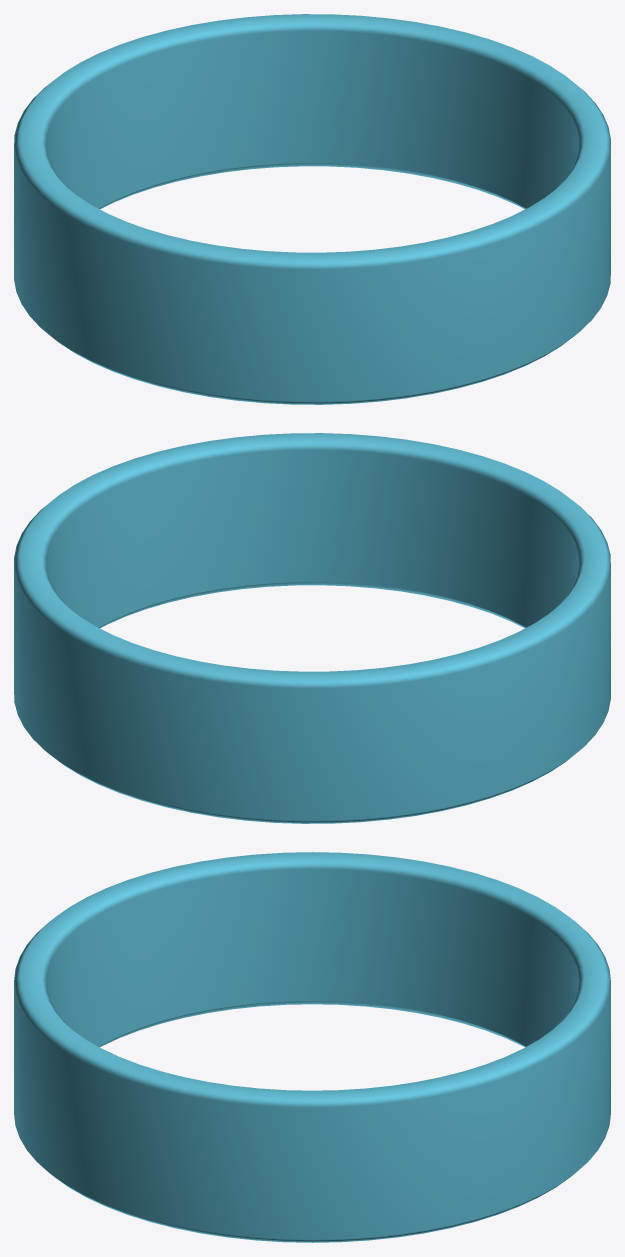
3 renders of one model, top to bottom at view 1: azimuth 30°, elevation 25°; view 2: azimuth 150°, elevation 25°; view 3: azimuth 270°, elevation 25°, orthographic.
Visible parts, largest first — view 1: seal_body; view 2: seal_body; view 3: seal_body.
Part boxes in pixels (box(x1,y1,x2,y2)): seal_body: box(14, 14, 610, 404); seal_body: box(14, 433, 610, 823); seal_body: box(14, 852, 610, 1242).
Size of the model in its own units: 0.0358 by 0.00952 by 0.0358.
